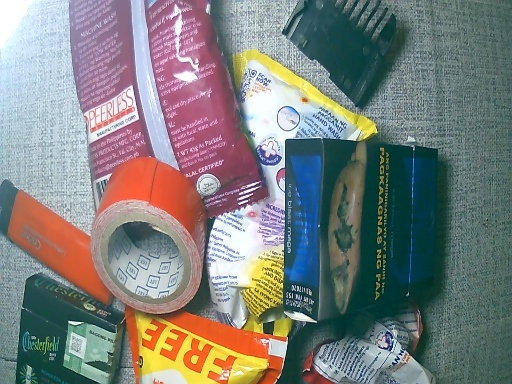cardboard: (286, 140, 452, 313), (16, 275, 123, 384)
plastic: (64, 1, 269, 207), (239, 50, 367, 198), (117, 309, 295, 384), (296, 305, 451, 384), (204, 209, 292, 330)
trash: (89, 164, 204, 314), (1, 178, 115, 306), (282, 1, 401, 109)
